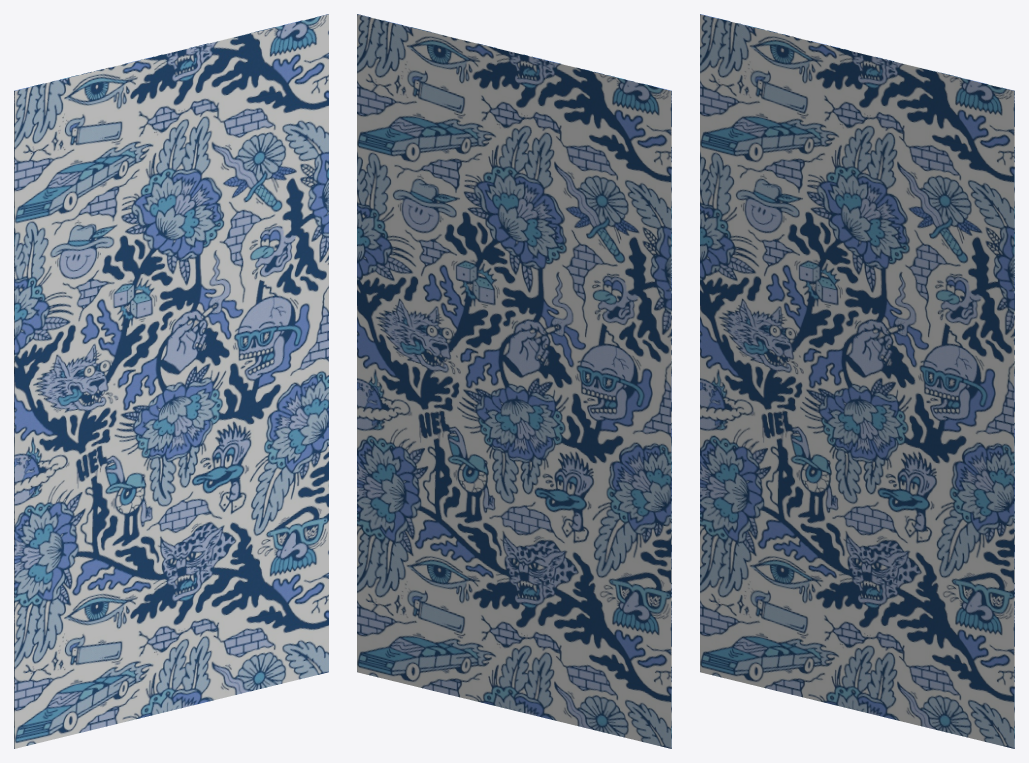
File: porcelain_mobile.glb
3 views of the same model, side by side, from view 1: azimuth 30°, elevation 25°; view 2: azimuth 150°, elevation 25°; view 3: azimuth 330°, elevation 25° (orthographic).
Visible parts, largest first — view 1: fracture; view 2: fracture; view 3: fracture.
Part boxes in pixels (x1,y1,x2,y2): fracture: (14, 14, 328, 748); fracture: (357, 14, 671, 748); fracture: (700, 14, 1014, 748).
Bounding box in the file's own units: 127 × 253 × 0.3165.
Materials: 1 (1 with a texture image).
